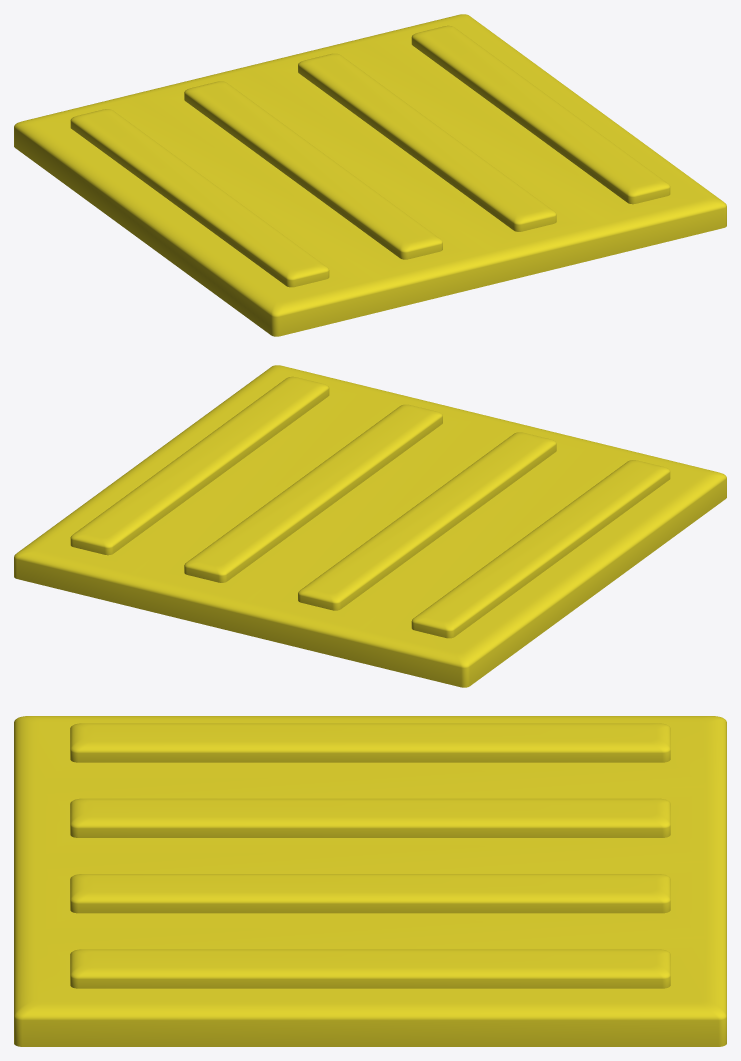
File: 点字ブロック.fbx
The picture shows the model from 3 angles, top to bottom: view 1: azimuth 30°, elevation 25°; view 2: azimuth 150°, elevation 25°; view 3: azimuth 270°, elevation 25°; orthographic projection. The views are drawn at different scales.
Visible parts, largest first — view 1: 平面.024; view 2: 平面.024; view 3: 平面.024.
Part boxes in pixels (x1,y1,x2,y2): 平面.024: (14,14,726,336); 平面.024: (14,365,726,687); 平面.024: (14,716,726,1046).
Size of the model in its own units: 77.97 by 5.98 by 77.97.
